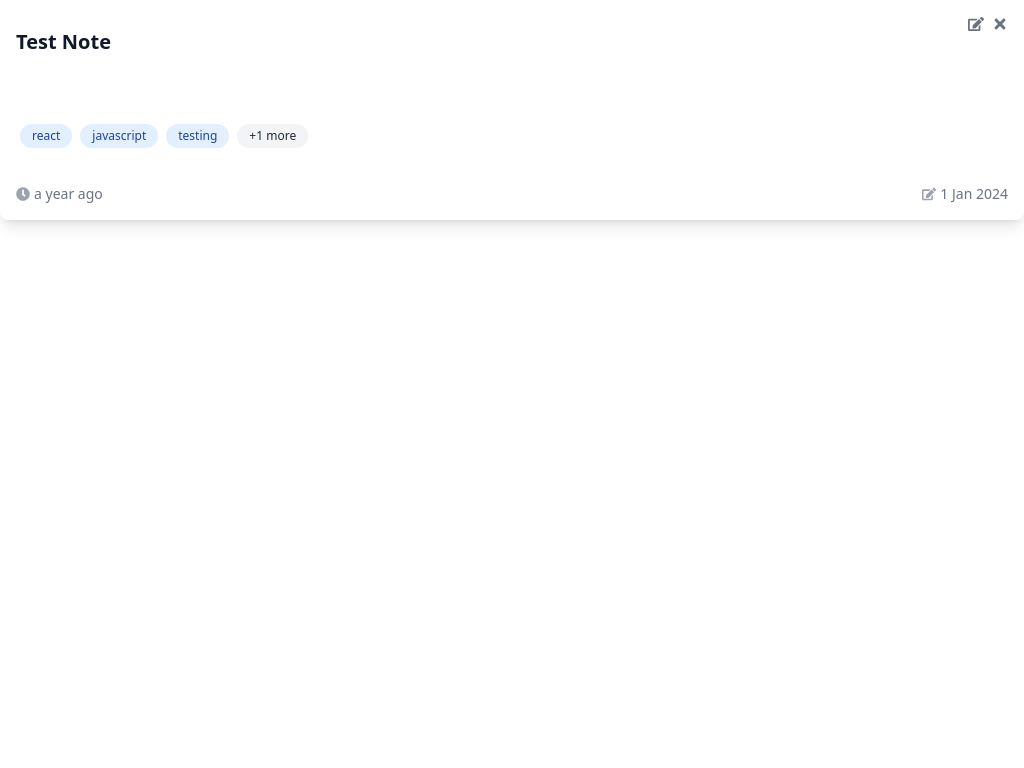
Test: NoteCard Component › Interactions › opens edit modal when clicking edit button
Click the button named "edit note" at (976, 24), box x1=968 y1=16 x2=984 y2=32
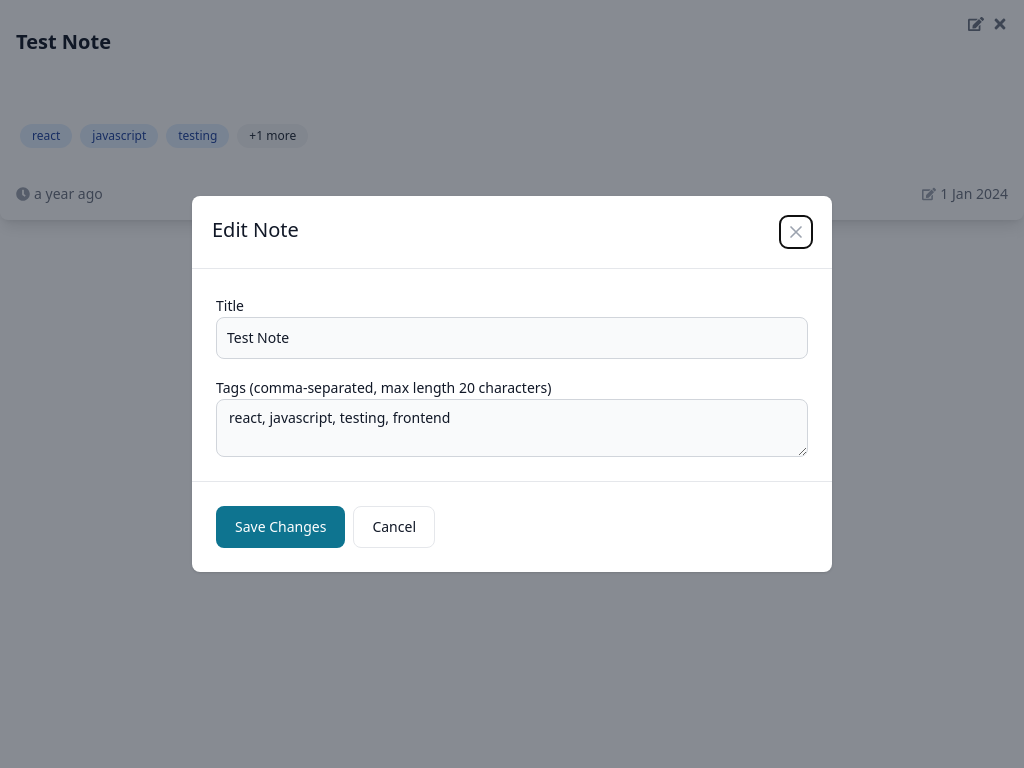
Now the dialog is shown, box x1=176 y1=180 x2=848 y2=588
